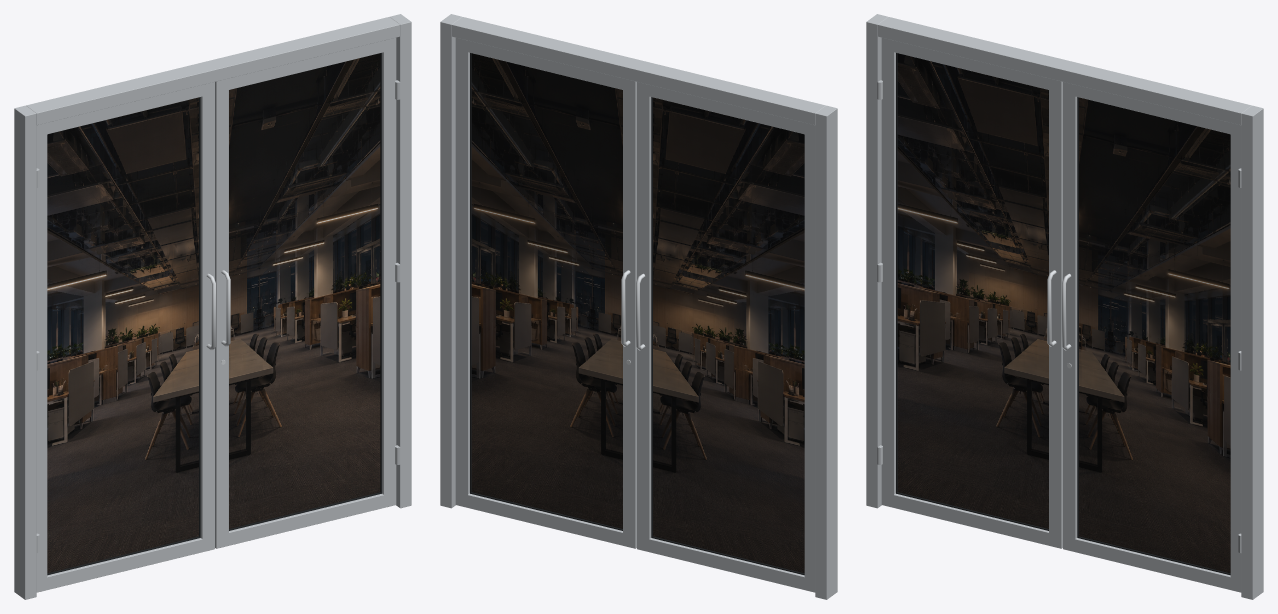
Rendered from OfficeGlassDoor.fbx.
The picture shows the model from 3 angles, left to right: view 1: azimuth 30°, elevation 25°; view 2: azimuth 150°, elevation 25°; view 3: azimuth 330°, elevation 25°; orthographic projection.
Parts seen in each view (by area): view 1: DoorRight, DoorLeft, Frame; view 2: DoorRight, DoorLeft, Frame; view 3: DoorLeft, DoorRight, Frame.
Part boxes in pixels (x1,y1,x2,y2): DoorRight: (215, 37, 396, 548); DoorLeft: (36, 82, 215, 592); Frame: (14, 14, 411, 599); DoorRight: (455, 37, 636, 548); DoorLeft: (636, 82, 815, 592); Frame: (440, 14, 837, 599); DoorLeft: (881, 37, 1062, 548); DoorRight: (1062, 82, 1241, 592); Frame: (866, 14, 1263, 599).
Bounding box in the file's own units: 184 × 220 × 15.4.
